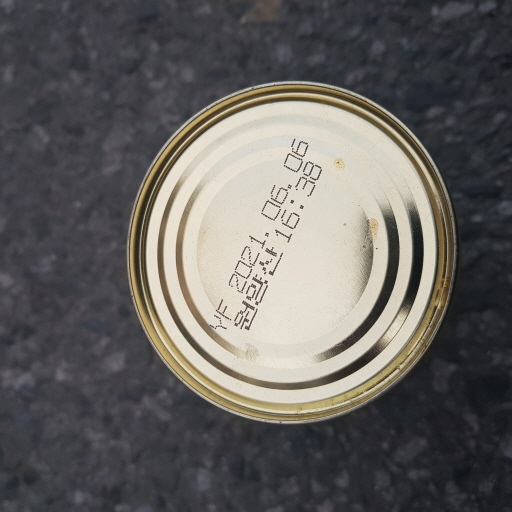Metal_1: (124, 81, 457, 428)
